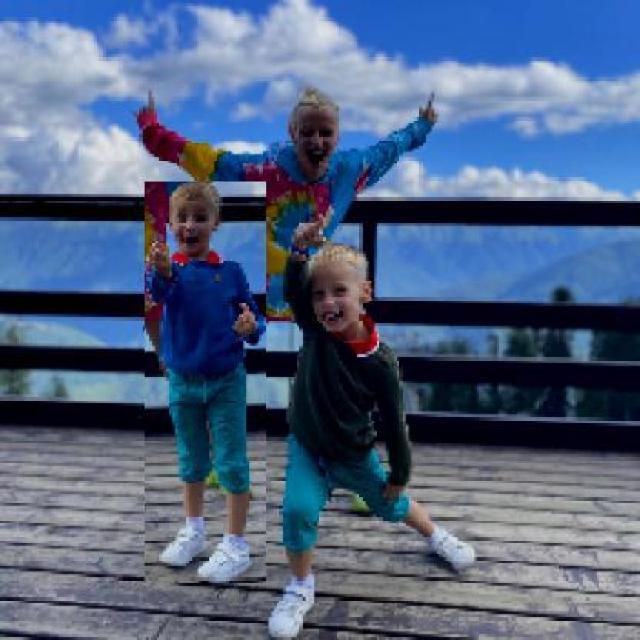child: (266, 202, 480, 638), (143, 182, 266, 584)
